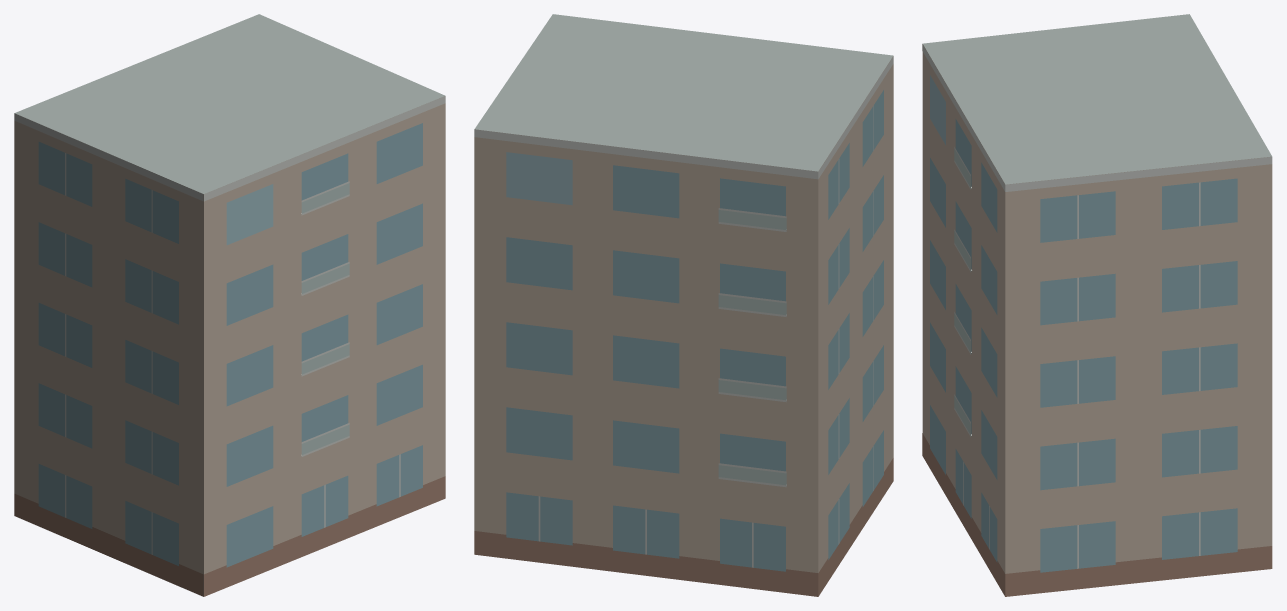
The model's file is survey-upis-32696047.glb.
3 renders of one model, left to right at view 1: azimuth 30°, elevation 25°; view 2: azimuth 150°, elevation 25°; view 3: azimuth 270°, elevation 25°, orthographic. The views are drawn at different scales.
Parts seen in each view (by area): view 1: survey-upis-32696047.tmp; view 2: survey-upis-32696047.tmp; view 3: survey-upis-32696047.tmp.
Part boxes in pixels (<box>): survey-upis-32696047.tmp: <box>14,14,445,596</box>; survey-upis-32696047.tmp: <box>474,14,893,596</box>; survey-upis-32696047.tmp: <box>922,14,1272,596</box>.
Bounding box in the file's own units: 11.81 × 13.3 × 10.24.
